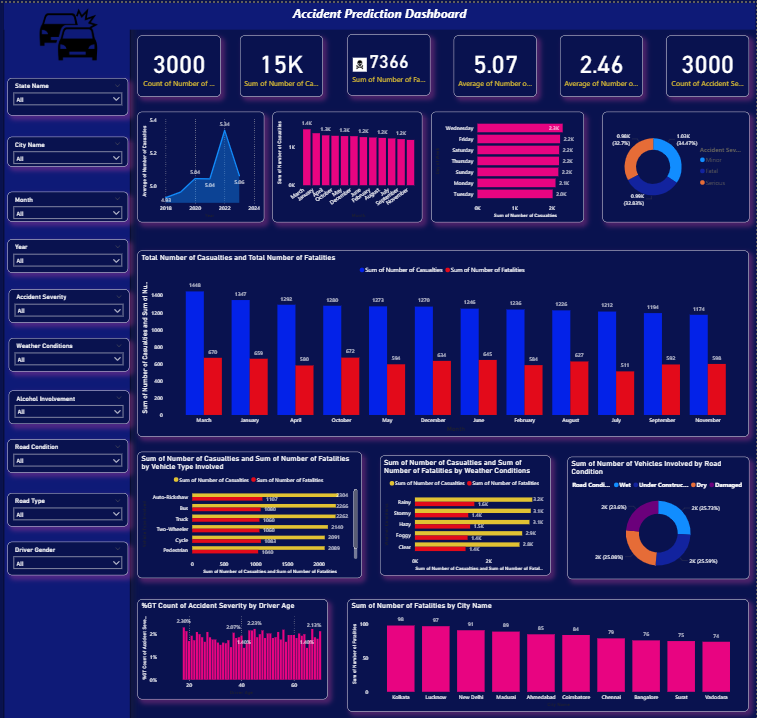

What the dashboard file says about the page in this screenshot:
{"tool":"powerbi","page":{"name":"Page 1","canvas":[1680,1720],"ordinal":0},"visuals":[{"type":"textbox","box":[9.4,0,281.2,1720.3],"z":0},{"type":"textbox","box":[9.4,0,1670.3,59.4],"z":1000},{"type":"card","fields":{"Values":["CountNonNull(accident_prediction_india.Number of Casualties)"]},"box":[306.1,71.2,184.8,136.4],"z":2000},{"type":"card","fields":{"Values":["Sum(accident_prediction_india.Number of Casualties)"]},"box":[532.8,71.9,184.4,135.9],"z":3000},{"type":"card","fields":{"Values":["Sum(accident_prediction_india.Number of Fatalities)"]},"box":[773.4,70.3,184.4,135.9],"z":4000},{"type":"card","fields":{"Values":["Avg(accident_prediction_india.Number of Casualties)"]},"box":[1007.8,71.9,184.4,135.9],"z":5000},{"type":"card","fields":{"Values":["Avg(accident_prediction_india.Number of Fatalities)"]},"box":[1245.3,71.9,184.4,135.9],"z":6000},{"type":"card","fields":{"Values":["CountNonNull(accident_prediction_india.Accident Severity)"]},"box":[1479.7,71.9,184.4,135.9],"z":7000},{"type":"areaChart","fields":{"Category":["accident_prediction_india.Year"],"Y":["Avg(accident_prediction_india.Number of Casualties)"]},"box":[306.2,240.6,281.2,245.3],"z":8000},{"type":"clusteredColumnChart","fields":{"Category":["accident_prediction_india.Month"],"Y":["Sum(accident_prediction_india.Number of Casualties)"]},"box":[606.2,242.2,332.8,245.3],"z":9000},{"type":"clusteredBarChart","fields":{"Category":["accident_prediction_india.Day of Week"],"Y":["Sum(accident_prediction_india.Number of Casualties)"]},"box":[957.8,240.6,339.1,245.3],"z":10000},{"type":"donutChart","fields":{"Y":["CountNonNull(accident_prediction_india.Time of Day)"],"Category":["accident_prediction_india.Accident Severity"]},"box":[1337.7,241.5,326.4,245.3],"z":11000},{"type":"slicer","fields":{"Values":["accident_prediction_india.State Name"]},"box":[17,166,267.9,83],"z":12000},{"type":"slicer","fields":{"Values":["accident_prediction_india.City Name"]},"box":[17,298.1,267.9,66],"z":13000},{"type":"slicer","fields":{"Values":["accident_prediction_india.Month"]},"box":[17,418.9,267.9,66],"z":14000},{"type":"clusteredColumnChart","title":"Total  Number of Casualties and Total  Number of Fatalities","fields":{"Y":["Sum(accident_prediction_india.Number of Casualties)","Sum(accident_prediction_india.Number of Fatalities)"],"Category":["accident_prediction_india.Month"]},"box":[305.7,550.9,1358.5,413.2],"z":15000},{"type":"clusteredBarChart","fields":{"Category":["accident_prediction_india.Vehicle Type Involved"],"Y":["Sum(accident_prediction_india.Number of Casualties)","Sum(accident_prediction_india.Number of Fatalities)"]},"box":[305.7,998.1,498.1,281.1],"z":16000},{"type":"clusteredBarChart","fields":{"Category":["accident_prediction_india.Weather Conditions"],"Y":["Sum(accident_prediction_india.Number of Casualties)","Sum(accident_prediction_india.Number of Fatalities)"]},"box":[845.3,1005.7,379.2,266],"z":17000},{"type":"donutChart","fields":{"Category":["accident_prediction_india.Road Condition"],"Y":["Sum(accident_prediction_india.Number of Vehicles Involved)"]},"box":[1260.4,1007.5,403.8,271.7],"z":18000},{"type":"clusteredColumnChart","fields":{"Category":["accident_prediction_india.Driver Age"],"Y":["CountNonNull(accident_prediction_india.Accident Severity)"]},"box":[306.1,1325.8,422.7,222.7],"z":19000},{"type":"clusteredColumnChart","fields":{"Category":["accident_prediction_india.City Name"],"Y":["Sum(accident_prediction_india.Number of Fatalities)"]},"box":[772.6,1325.4,891.5,249.6],"z":20000},{"type":"slicer","fields":{"Values":["accident_prediction_india.Year"]},"box":[16.7,524.2,268.2,74.2],"z":21000},{"type":"slicer","fields":{"Values":["accident_prediction_india.Accident Severity"]},"box":[18.2,634.8,268.2,74.2],"z":22000},{"type":"slicer","fields":{"Values":["accident_prediction_india.Weather Conditions"]},"box":[18.2,743.9,268.2,74.2],"z":23000},{"type":"slicer","fields":{"Values":["accident_prediction_india.Alcohol Involvement"]},"box":[18.2,860.6,268.2,74.2],"z":24000},{"type":"slicer","fields":{"Values":["accident_prediction_india.Road Condition"]},"box":[16.7,969.7,268.2,74.2],"z":25000},{"type":"slicer","fields":{"Values":["accident_prediction_india.Road Type"]},"box":[16.7,1089.4,268.2,74.2],"z":26000},{"type":"slicer","fields":{"Values":["accident_prediction_india.Driver Gender"]},"box":[16.7,1198.5,268.2,74.2],"z":27000}]}

Visuals, with their boxes in screenshot pixels (x1, y1, x2, y2):
textbox: <box>14,0,138,717</box>
textbox: <box>14,0,753,3</box>
card - CountNonNull(accident_prediction_india.Number of Casualties): <box>145,8,227,68</box>
card - Sum(accident_prediction_india.Number of Casualties): <box>245,8,327,68</box>
card - Sum(accident_prediction_india.Number of Fatalities): <box>352,7,433,68</box>
card - Avg(accident_prediction_india.Number of Casualties): <box>456,8,537,68</box>
card - Avg(accident_prediction_india.Number of Fatalities): <box>561,8,642,68</box>
card - CountNonNull(accident_prediction_india.Accident Severity): <box>664,8,746,68</box>
areaChart - accident_prediction_india.Year x Avg(accident_prediction_india.Number of Casualties): <box>145,83,270,191</box>
clusteredColumnChart - accident_prediction_india.Month x Sum(accident_prediction_india.Number of Casualties): <box>278,83,425,192</box>
clusteredBarChart - accident_prediction_india.Day of Week x Sum(accident_prediction_india.Number of Casualties): <box>433,83,583,191</box>
donutChart - CountNonNull(accident_prediction_india.Time of Day) x accident_prediction_india.Accident Severity: <box>601,83,746,192</box>
slicer - accident_prediction_india.State Name: <box>17,50,136,86</box>
slicer - accident_prediction_india.City Name: <box>17,108,136,137</box>
slicer - accident_prediction_india.Month: <box>17,162,136,191</box>
"Total  Number of Casualties and Total  Number of Fatalities" clusteredColumnChart: <box>145,220,746,403</box>
clusteredBarChart - accident_prediction_india.Vehicle Type Involved x Sum(accident_prediction_india.Number of Casualties): <box>145,418,365,542</box>
clusteredBarChart - accident_prediction_india.Weather Conditions x Sum(accident_prediction_india.Number of Casualties): <box>384,421,551,539</box>
donutChart - accident_prediction_india.Road Condition x Sum(accident_prediction_india.Number of Vehicles Involved): <box>567,422,746,542</box>
clusteredColumnChart - accident_prediction_india.Driver Age x CountNonNull(accident_prediction_india.Accident Severity): <box>145,563,332,661</box>
clusteredColumnChart - accident_prediction_india.City Name x Sum(accident_prediction_india.Number of Fatalities): <box>352,562,746,673</box>
slicer - accident_prediction_india.Year: <box>17,208,136,241</box>
slicer - accident_prediction_india.Accident Severity: <box>18,257,137,290</box>
slicer - accident_prediction_india.Weather Conditions: <box>18,305,137,338</box>
slicer - accident_prediction_india.Alcohol Involvement: <box>18,357,137,390</box>
slicer - accident_prediction_india.Road Condition: <box>17,405,136,438</box>
slicer - accident_prediction_india.Road Type: <box>17,458,136,491</box>
slicer - accident_prediction_india.Driver Gender: <box>17,506,136,539</box>
